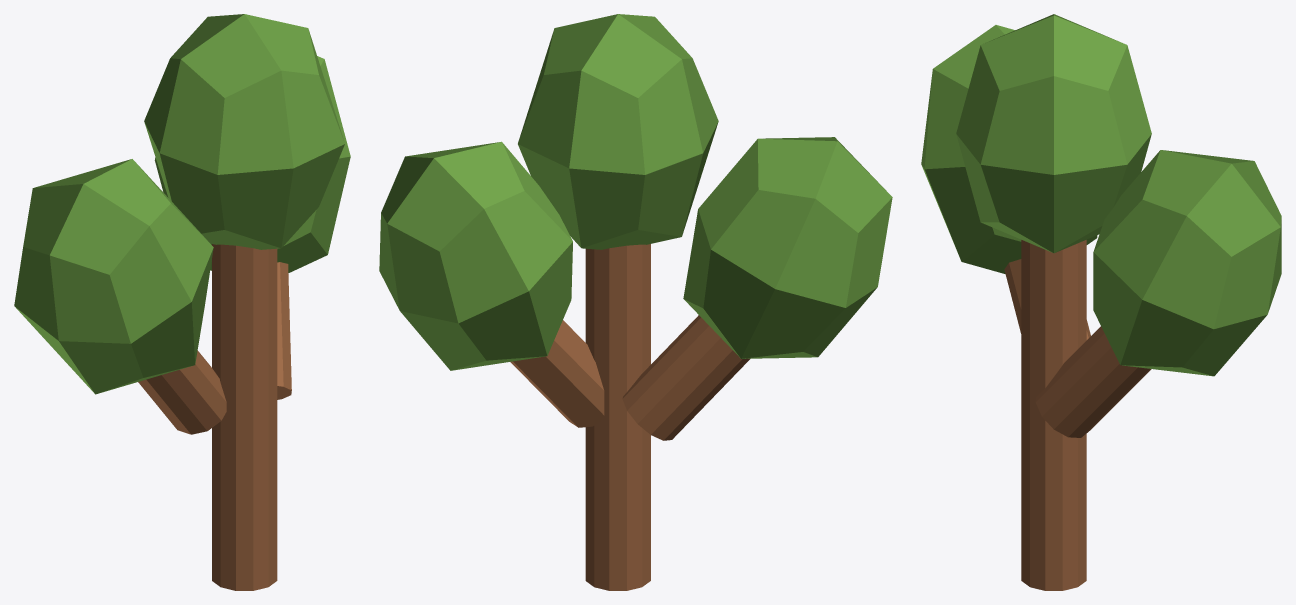
The model's file is branch.obj.
3 renders of one model, left to right at view 1: azimuth 30°, elevation 25°; view 2: azimuth 150°, elevation 25°; view 3: azimuth 270°, elevation 25°, orthographic.
Visible parts, largest first — view 1: cuboid, cylinder; view 2: cuboid, cylinder; view 3: cuboid, cylinder.
Boxes of the visible parts, x1,y1,x2,y2 form: cuboid: (14, 14, 350, 394); cylinder: (138, 244, 291, 590); cuboid: (379, 14, 892, 370); cylinder: (510, 244, 750, 590); cuboid: (921, 14, 1281, 376); cylinder: (1004, 240, 1151, 590).
Bounding box in the file's own units: 0.8682 × 1.19 × 0.6908.
